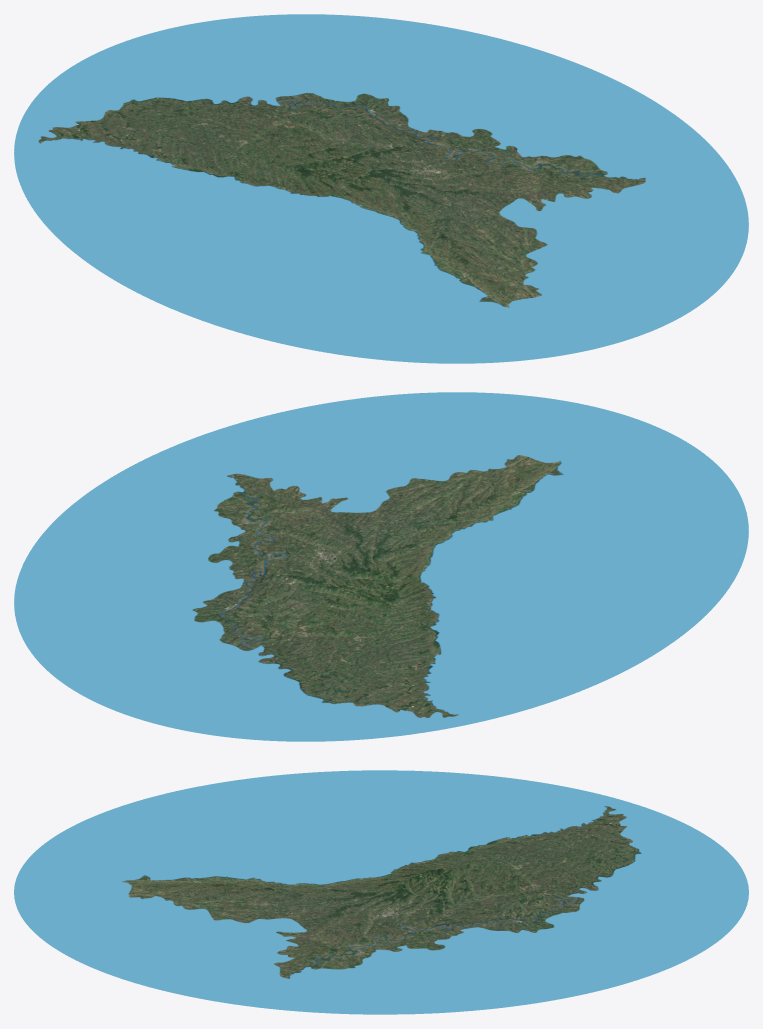
The model's file is MDA-previa-terrain.glb.
3 renders of one model, top to bottom at view 1: azimuth 30°, elevation 25°; view 2: azimuth 150°, elevation 25°; view 3: azimuth 270°, elevation 25°, orthographic. The views are drawn at different scales.
Visible parts, largest first — view 1: Moldávia; view 2: Moldávia; view 3: Moldávia.
Part boxes in pixels (<box>): Moldávia: <box>14,14,748,363</box>; Moldávia: <box>14,392,748,741</box>; Moldávia: <box>14,770,748,1014</box>.
Bounding box in the file's own units: 1.96 × 0.0168 × 2.49.
Materials: 1 (1 with a texture image).
